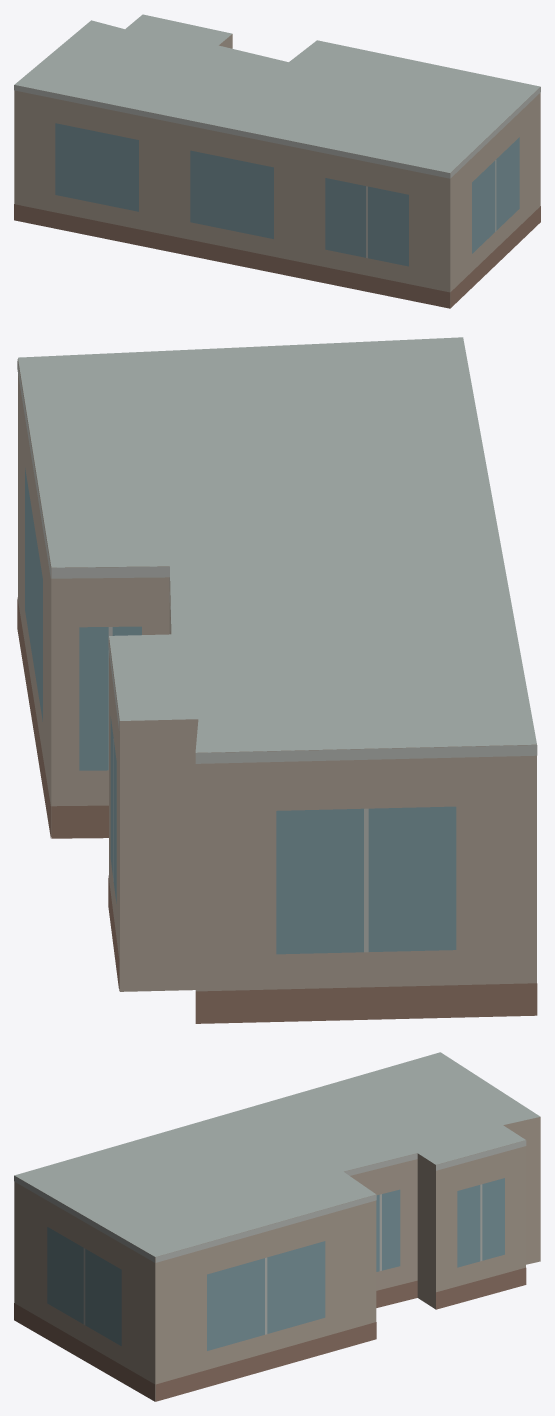
Rendered from survey-upis-32530427.glb.
3 renders of one model, top to bottom at view 1: azimuth 30°, elevation 25°; view 2: azimuth 150°, elevation 25°; view 3: azimuth 270°, elevation 25°, orthographic. The views are drawn at different scales.
Parts seen in each view (by area): view 1: survey-upis-32530427.tmp; view 2: survey-upis-32530427.tmp; view 3: survey-upis-32530427.tmp.
Part boxes in pixels (left/top/right/bottom): survey-upis-32530427.tmp: left=14, top=14, right=540, bottom=308; survey-upis-32530427.tmp: left=17, top=337, right=537, bottom=1023; survey-upis-32530427.tmp: left=14, top=1052, right=540, bottom=1401.
Bounding box in the file's own units: 9.27 × 3.05 × 10.07.
